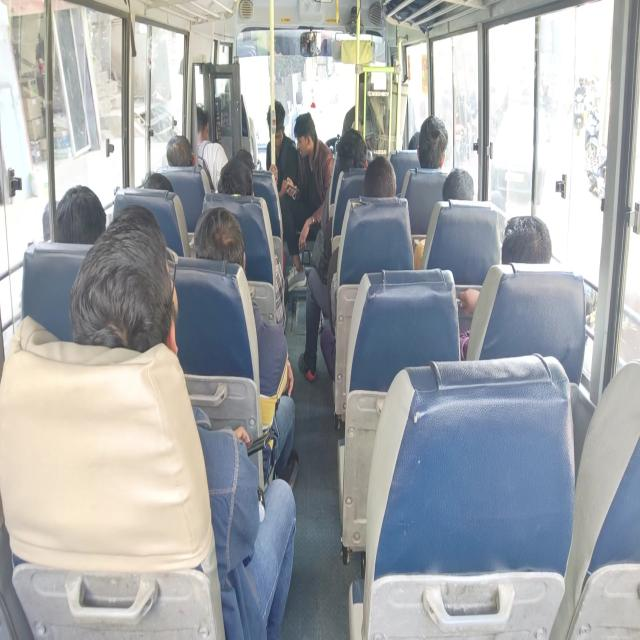person: (85, 208, 164, 338), (60, 182, 108, 239), (221, 156, 273, 208), (366, 158, 410, 218), (504, 208, 552, 259), (442, 166, 483, 216), (204, 212, 240, 266), (164, 135, 205, 181), (293, 121, 328, 168), (342, 128, 368, 183), (142, 170, 176, 211), (180, 106, 214, 141), (419, 121, 441, 174), (271, 106, 291, 159), (232, 141, 248, 160), (406, 139, 420, 153)
